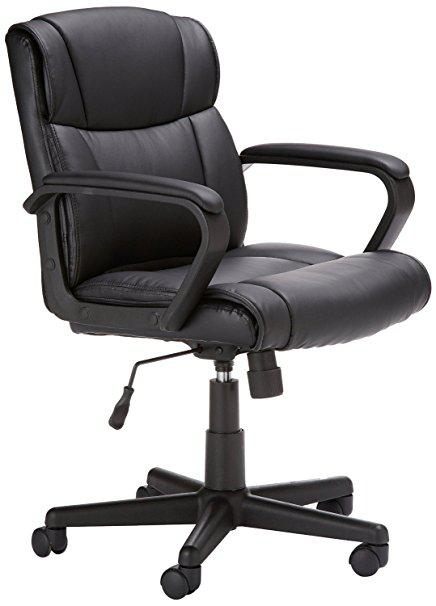chair: (4, 5, 435, 595)
